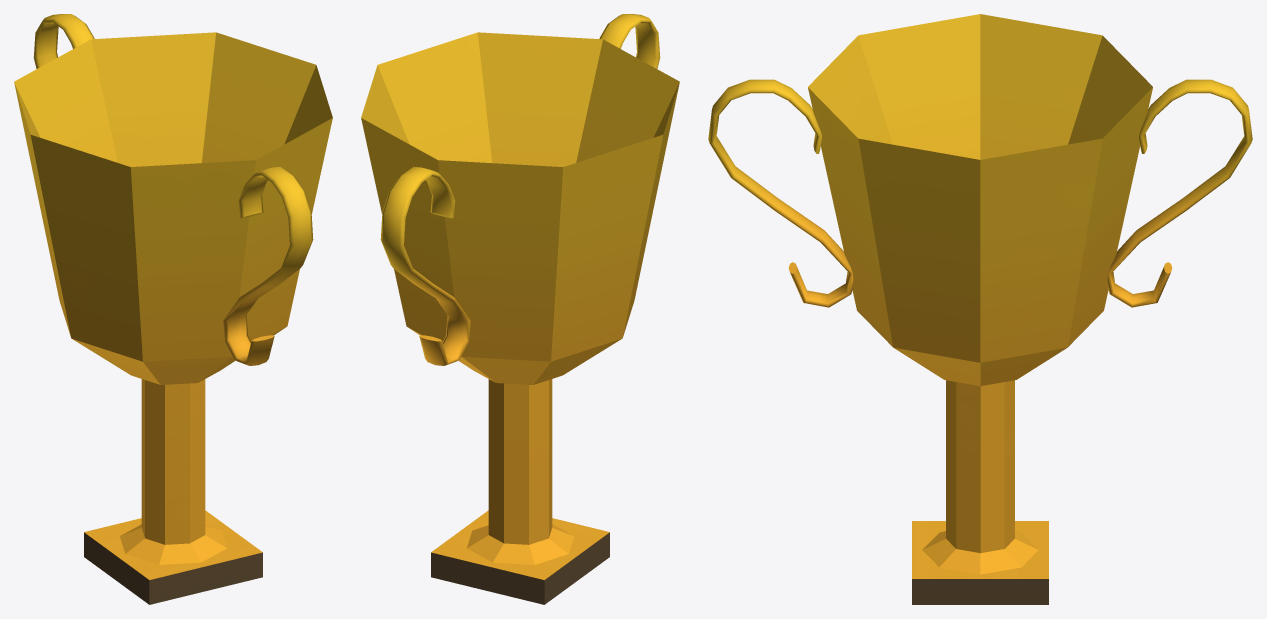
File: Trophée.fbx
The picture shows the model from 3 angles, left to right: view 1: azimuth 30°, elevation 25°; view 2: azimuth 150°, elevation 25°; view 3: azimuth 270°, elevation 25°; orthographic projection. The views are drawn at different scales.
Visible parts, largest first — view 1: Cube.043; view 2: Cube.043; view 3: Cube.043.
Boxes of the visible parts, x1,y1,x2,y2 form: Cube.043: (14,14,332,604); Cube.043: (361,14,679,604); Cube.043: (708,14,1252,604).
Bounding box in the file's own units: 43.42 × 68.44 × 68.43.
